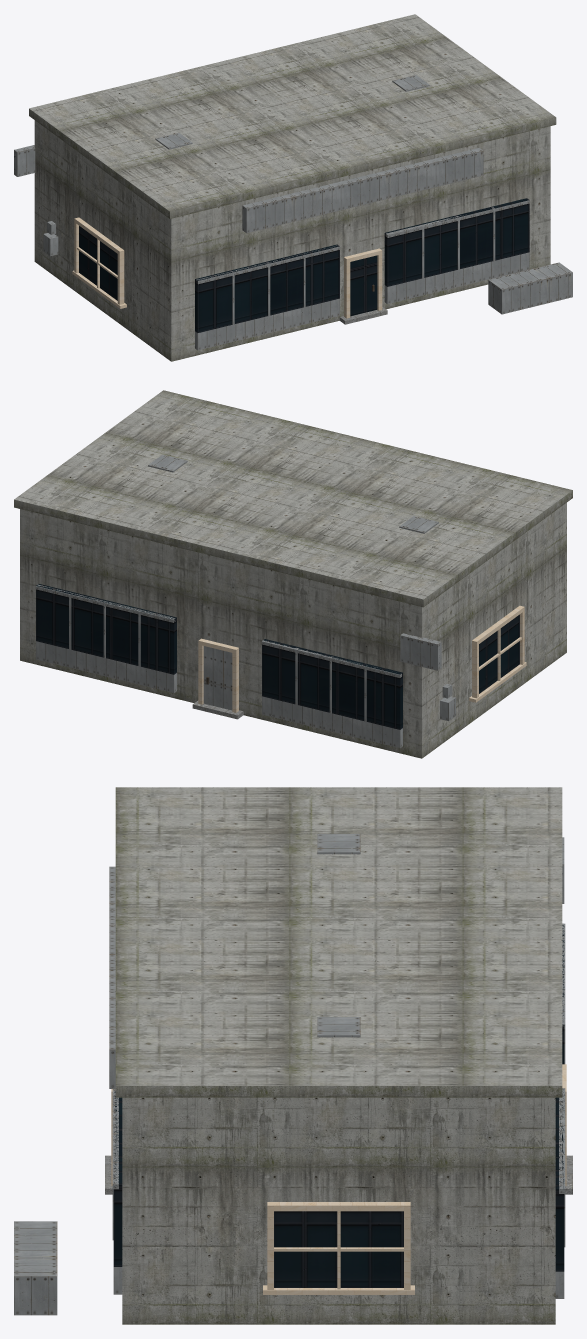
File: spin-cycle-laundromat_lod0.gltf
The picture shows the model from 3 angles, top to bottom: view 1: azimuth 30°, elevation 25°; view 2: azimuth 150°, elevation 25°; view 3: azimuth 270°, elevation 25°; orthographic projection. The views are drawn at different scales.
Visible parts, largest first — view 1: spin-cycle-laundromat__parapet, spin-cycle-laundromat_main, spin-cycle-laundromat_fen_07-glass-curtain-blue_1_t, spin-cycle-laundromat_fen_14-steel-panel_0, spin-cycle-laundromat__sign_band, spin-cycle-laundromat__cart_corral, spin-cycle-laundromat_fen_04-limestone_2; view 2: spin-cycle-laundromat__parapet, spin-cycle-laundromat_main, spin-cycle-laundromat_fen_07-glass-curtain-blue_1_t, spin-cycle-laundromat_fen_14-steel-panel_0, spin-cycle-laundromat_fen_04-limestone_2; view 3: spin-cycle-laundromat__parapet, spin-cycle-laundromat_main, spin-cycle-laundromat_fen_07-glass-curtain-blue_1_t, spin-cycle-laundromat_fen_04-limestone_2, spin-cycle-laundromat__cart_corral, spin-cycle-laundromat_fen_14-steel-panel_0, spin-cycle-laundromat__sign_band, spin-cycle-laundromat__vent_a, spin-cycle-laundromat__vent_b.
Part boxes in pixels (x1=…): spin-cycle-laundromat__parapet: x1=29, y1=14, x2=556, y2=218; spin-cycle-laundromat_main: x1=34, y1=120, x2=550, y2=361; spin-cycle-laundromat_fen_07-glass-curtain-blue_1_t: x1=79, y1=198, x2=529, y2=332; spin-cycle-laundromat_fen_14-steel-panel_0: x1=14, y1=145, x2=529, y2=350; spin-cycle-laundromat__sign_band: x1=242, y1=147, x2=483, y2=233; spin-cycle-laundromat__cart_corral: x1=488, y1=262, x2=572, y2=314; spin-cycle-laundromat_fen_04-limestone_2: x1=72, y1=217, x2=382, y2=318; spin-cycle-laundromat__parapet: x1=14, y1=390, x2=572, y2=607; spin-cycle-laundromat_main: x1=20, y1=502, x2=566, y2=758; spin-cycle-laundromat_fen_07-glass-curtain-blue_1_t: x1=36, y1=584, x2=519, y2=729; spin-cycle-laundromat_fen_14-steel-panel_0: x1=35, y1=584, x2=455, y2=748; spin-cycle-laundromat_fen_04-limestone_2: x1=198, y1=605, x2=526, y2=712; spin-cycle-laundromat__parapet: x1=115, y1=787, x2=562, y2=1097; spin-cycle-laundromat_main: x1=122, y1=1097, x2=555, y2=1324; spin-cycle-laundromat_fen_07-glass-curtain-blue_1_t: x1=113, y1=925, x2=564, y2=1287; spin-cycle-laundromat_fen_04-limestone_2: x1=111, y1=1064, x2=566, y2=1294; spin-cycle-laundromat__cart_corral: x1=14, y1=1221, x2=57, y2=1315; spin-cycle-laundromat_fen_14-steel-panel_0: x1=112, y1=837, x2=565, y2=1298; spin-cycle-laundromat__sign_band: x1=109, y1=866, x2=115, y2=1088; spin-cycle-laundromat__vent_a: x1=317, y1=834, x2=360, y2=854; spin-cycle-laundromat__vent_b: x1=317, y1=1017, x2=360, y2=1037.
Bounding box in the file's own units: 17.02 × 6.2 × 12.9.
